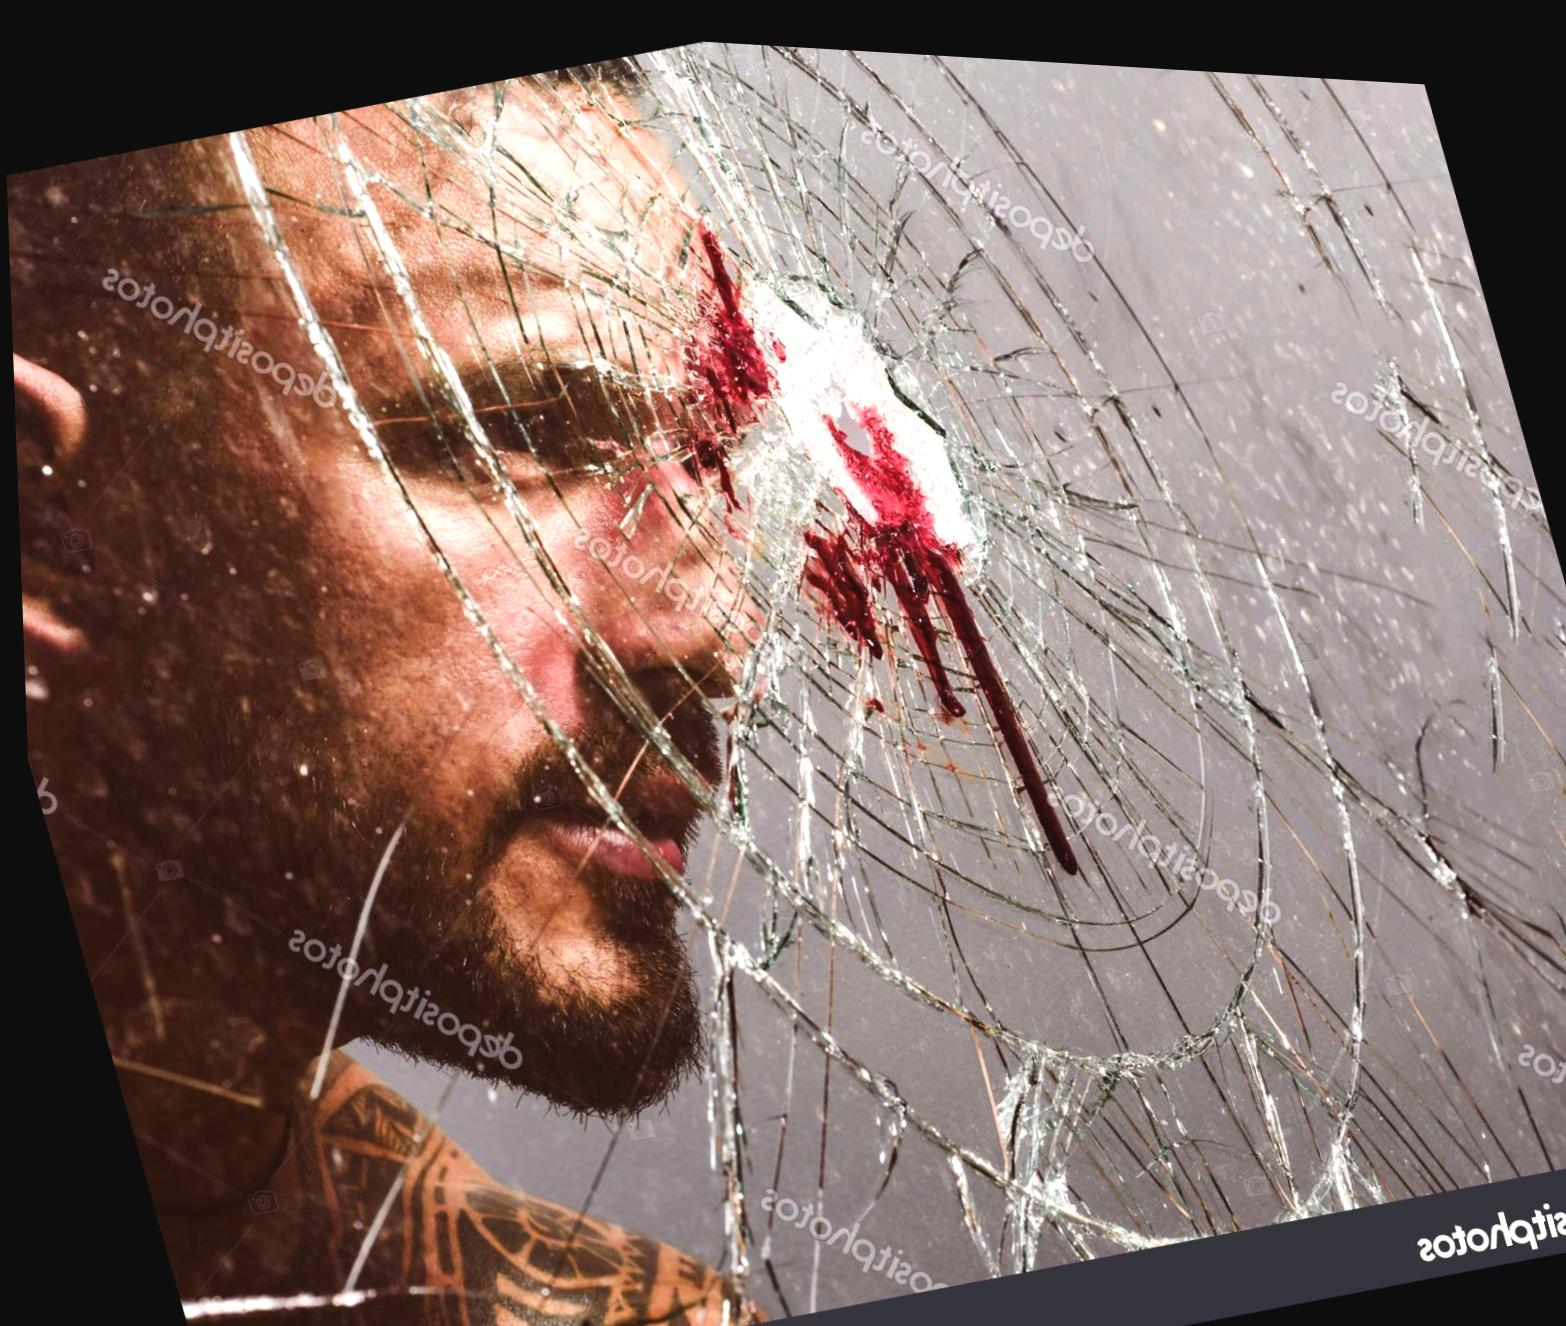Fire: (795, 388, 1072, 860), (678, 207, 777, 429), (684, 421, 740, 501)
